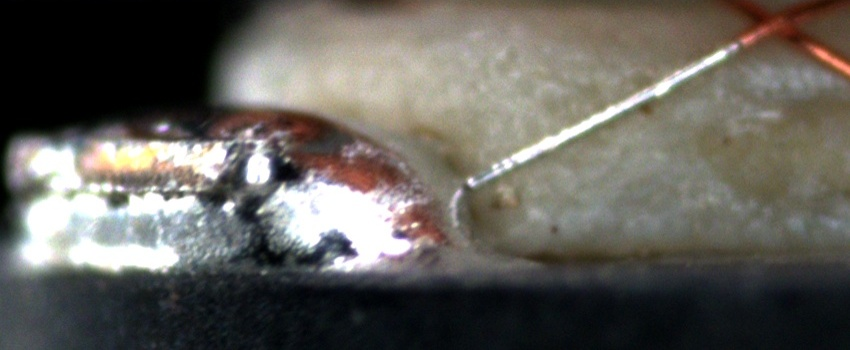CL: (727, 3, 811, 54)
DL: (597, 48, 850, 91)
TS: (464, 39, 742, 189)
